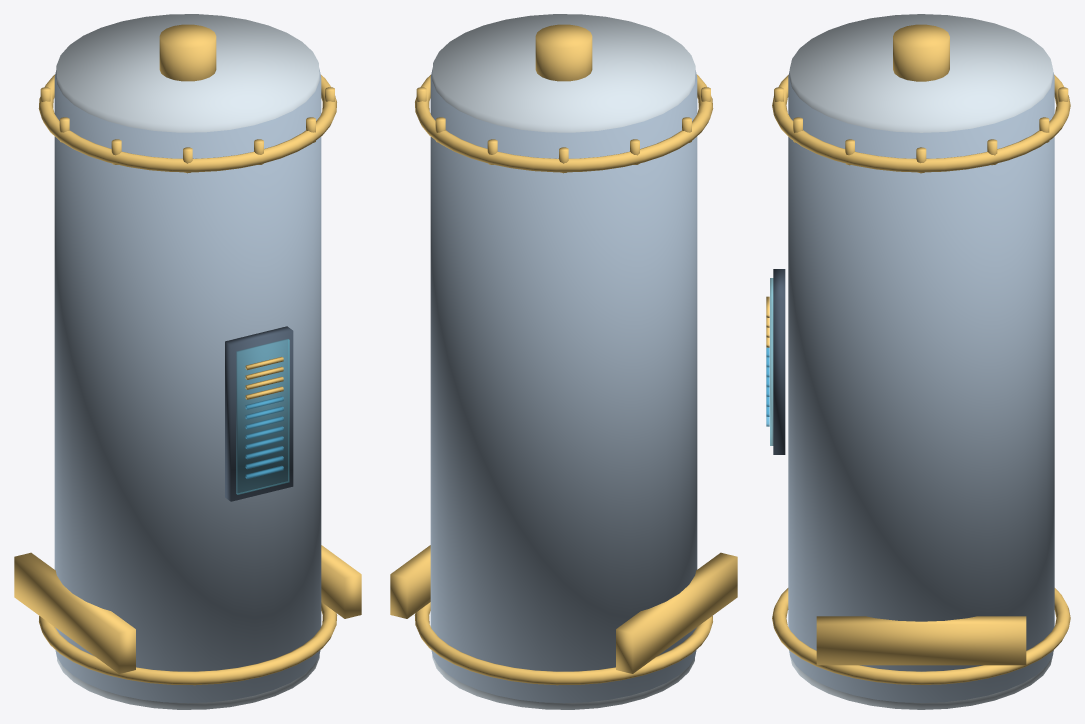
The model's file is 43_L89_WaterReservoirMain.fbx.
The picture shows the model from 3 angles, left to right: view 1: azimuth 30°, elevation 25°; view 2: azimuth 150°, elevation 25°; view 3: azimuth 270°, elevation 25°; orthographic projection.
Visible parts, largest first — view 1: L87_WaterReservoirMain_Part_0000, L87_WaterReservoirMain_Part_0001, L87_WaterReservoirMain_Part_0002, L87_WaterReservoirMain_Part_0003, L87_WaterReservoirMain_Part_0004, L87_WaterReservoirMain_Part_0005, L87_WaterReservoirMain_Part_0006; view 2: L87_WaterReservoirMain_Part_0000, L87_WaterReservoirMain_Part_0001, L87_WaterReservoirMain_Part_0002; view 3: L87_WaterReservoirMain_Part_0000, L87_WaterReservoirMain_Part_0001, L87_WaterReservoirMain_Part_0002, L87_WaterReservoirMain_Part_0003, L87_WaterReservoirMain_Part_0004.
Part boxes in pixels (box(x1,y1,x2,y2)): L87_WaterReservoirMain_Part_0000: box(54, 69, 321, 703); L87_WaterReservoirMain_Part_0001: box(56, 14, 319, 709); L87_WaterReservoirMain_Part_0002: box(14, 24, 361, 685); L87_WaterReservoirMain_Part_0003: box(225, 326, 293, 501); L87_WaterReservoirMain_Part_0004: box(236, 339, 289, 494); L87_WaterReservoirMain_Part_0005: box(245, 396, 283, 478); L87_WaterReservoirMain_Part_0006: box(245, 356, 283, 399); L87_WaterReservoirMain_Part_0000: box(430, 69, 697, 703); L87_WaterReservoirMain_Part_0001: box(432, 14, 695, 709); L87_WaterReservoirMain_Part_0002: box(390, 24, 737, 685); L87_WaterReservoirMain_Part_0000: box(788, 71, 1054, 702); L87_WaterReservoirMain_Part_0001: box(789, 14, 1053, 709); L87_WaterReservoirMain_Part_0002: box(772, 24, 1070, 684); L87_WaterReservoirMain_Part_0003: box(773, 269, 785, 454); L87_WaterReservoirMain_Part_0004: box(770, 278, 773, 445).
Bounding box in the file's own units: 2 × 4.8 × 2.04.
